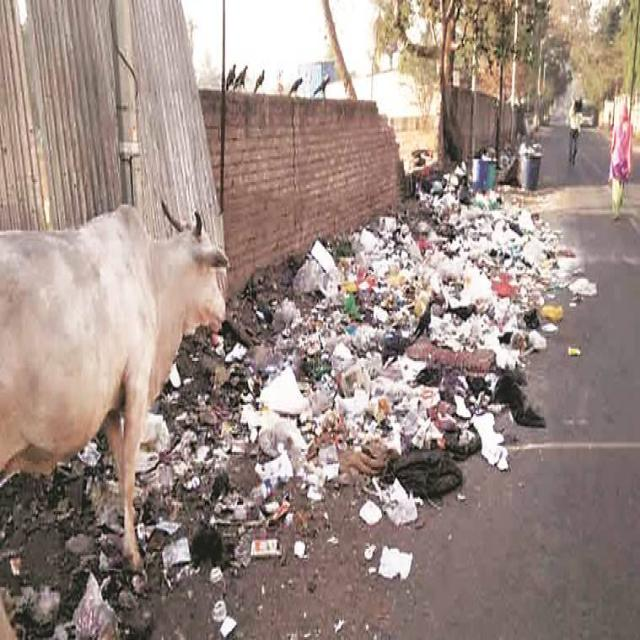garbage: (62, 143, 581, 640)
